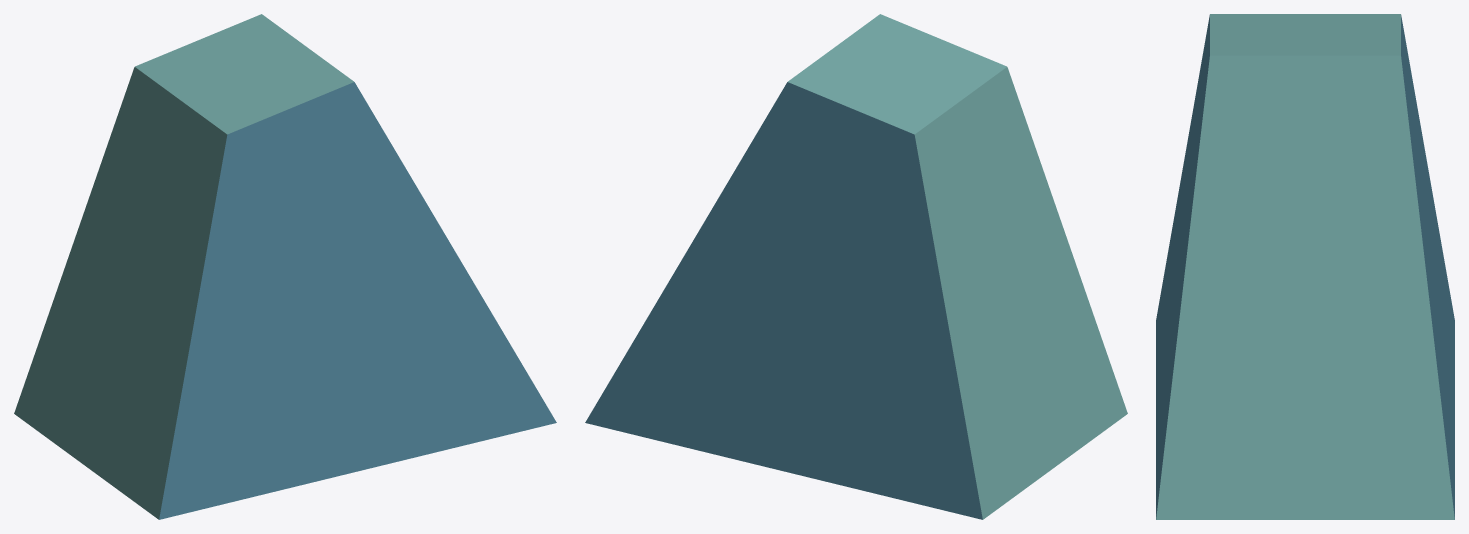
The model's file is mod_wall_particle (1).fbx.
3 views of the same model, side by side, from view 1: azimuth 30°, elevation 25°; view 2: azimuth 150°, elevation 25°; view 3: azimuth 270°, elevation 25° (orthographic). The views are drawn at different scales.
Visible parts, largest first — view 1: particle; view 2: particle; view 3: particle.
Boxes of the visible parts, x1,y1,x2,y2 form: particle: [14, 14, 556, 519]; particle: [585, 14, 1127, 519]; particle: [1156, 14, 1454, 519].
Bounding box in the file's own units: 74.67 × 65.43 × 47.15.
